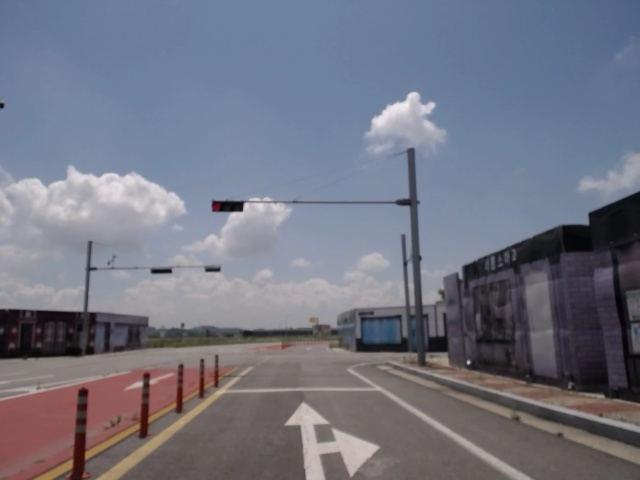red_3: (208, 200, 248, 212)
